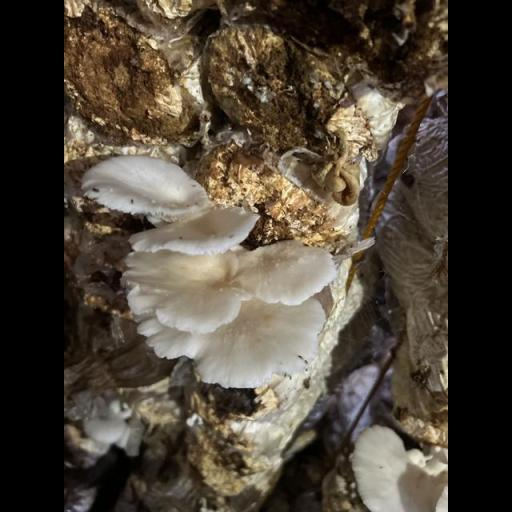White Oyster Mushroom: (69, 391, 143, 463)
